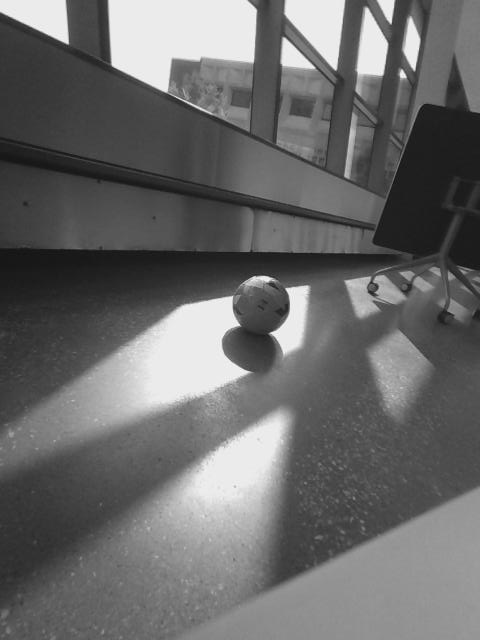ball: (233, 273, 292, 336)
